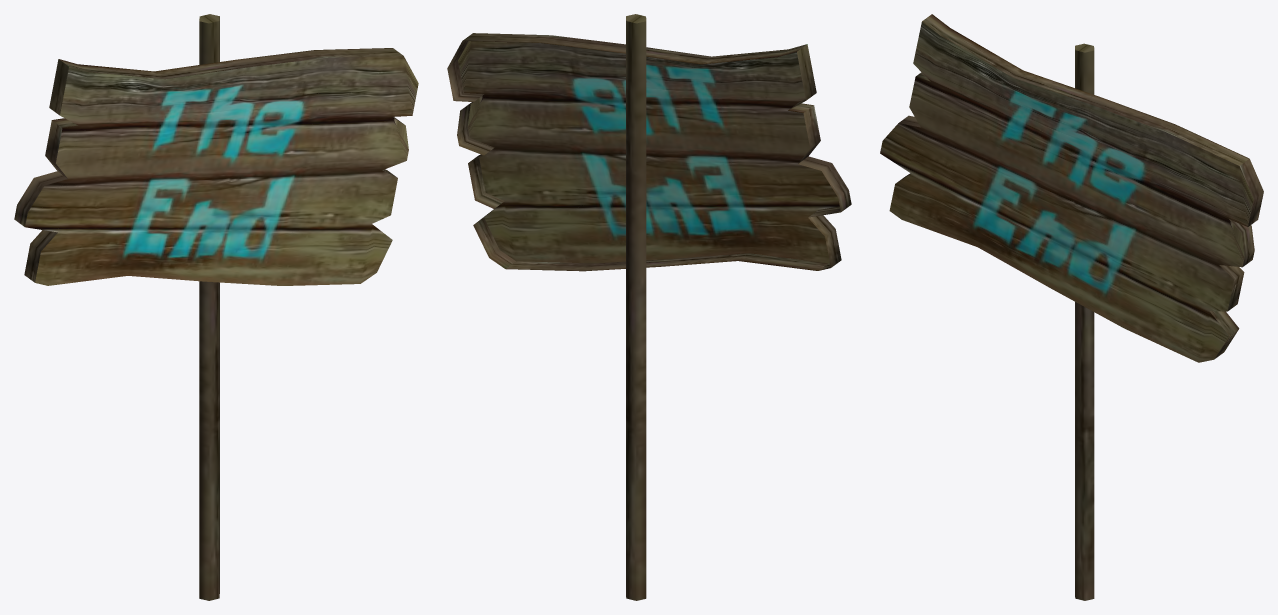
File: endBoard.obj
3 renders of one model, left to right at view 1: azimuth 30°, elevation 25°; view 2: azimuth 150°, elevation 25°; view 3: azimuth 330°, elevation 25°, orthographic. The views are drawn at different scales.
Visible parts, largest first — view 1: Cylinder01_0_Cylinder01_0; view 2: Cylinder01_0_Cylinder01_0; view 3: Cylinder01_0_Cylinder01_0.
Part boxes in pixels (x1,y1,x2,y2): Cylinder01_0_Cylinder01_0: (14, 14, 418, 600); Cylinder01_0_Cylinder01_0: (447, 14, 851, 600); Cylinder01_0_Cylinder01_0: (880, 14, 1263, 600).
Bounding box in the file's own units: 4.88 × 6.85 × 0.4348.
1 material, 1 textured.
